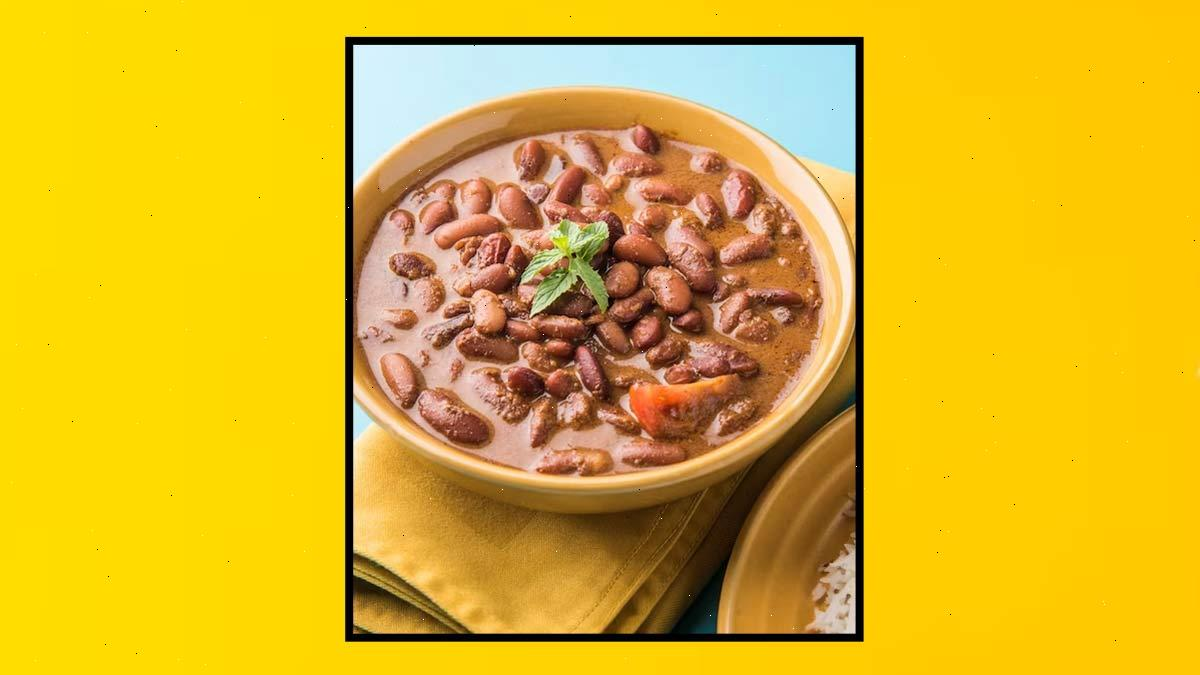rajma: (395, 125, 827, 470)
